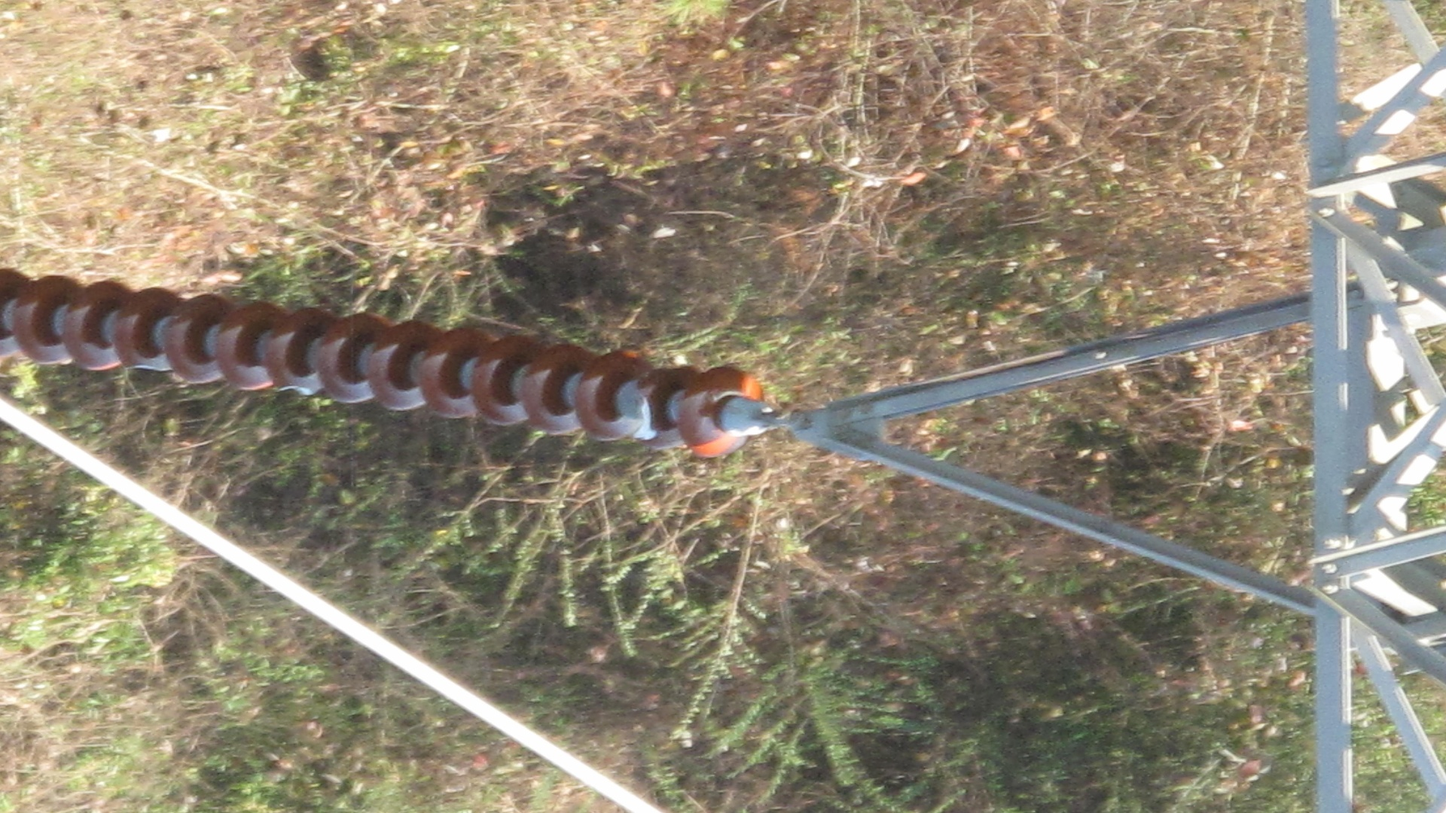insulator: (1, 260, 774, 464)
insulator_breakage: (630, 391, 660, 443)
